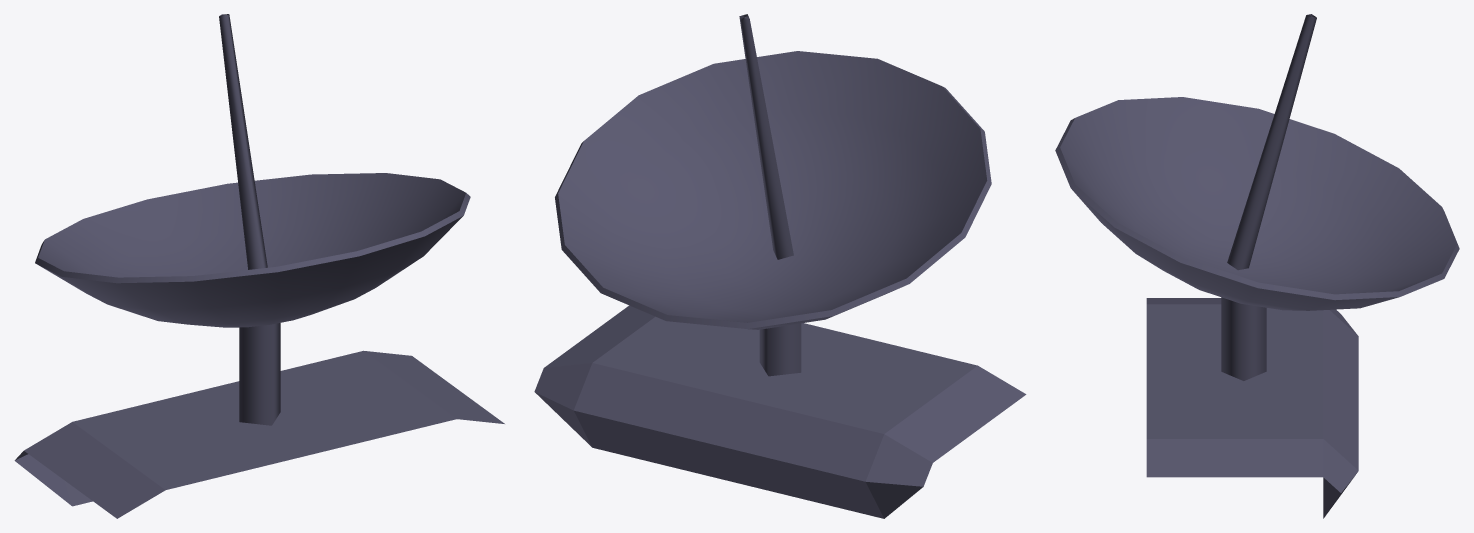
The model's file is tool_radar.fbx.
The picture shows the model from 3 angles, left to right: view 1: azimuth 30°, elevation 25°; view 2: azimuth 150°, elevation 25°; view 3: azimuth 270°, elevation 25°; orthographic projection. The views are drawn at different scales.
Visible parts, largest first — view 1: tool_radar_dish, tool_radar; view 2: tool_radar_dish, tool_radar; view 3: tool_radar_dish, tool_radar.
Part boxes in pixels (left/top/right/bottom): tool_radar_dish: left=35, top=14, right=470, bottom=327; tool_radar: left=14, top=323, right=504, bottom=518; tool_radar_dish: left=555, top=14, right=991, bottom=329; tool_radar: left=534, top=305, right=1026, bottom=518; tool_radar_dish: left=1055, top=14, right=1459, bottom=310; tool_radar: left=1146, top=297, right=1358, bottom=518.
Bounding box in the file's own units: 60 × 68.16 × 57.21.
